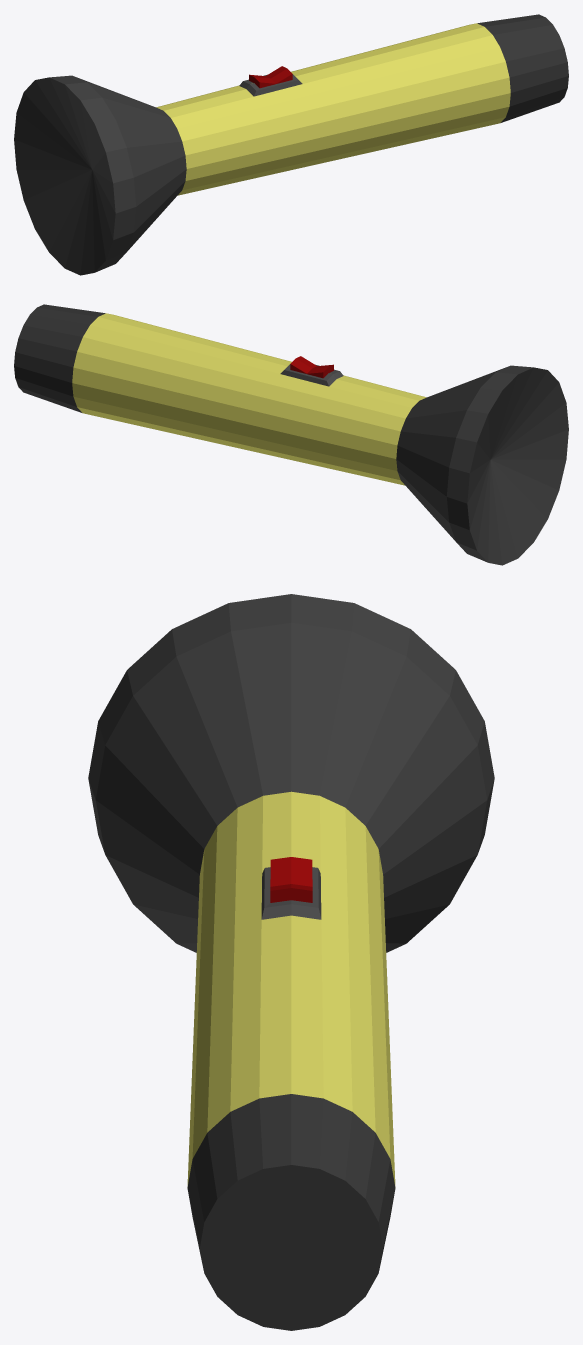
Rendered from lampeTorche1.fbx.
The picture shows the model from 3 angles, top to bottom: view 1: azimuth 30°, elevation 25°; view 2: azimuth 150°, elevation 25°; view 3: azimuth 270°, elevation 25°; orthographic projection. The views are drawn at different scales.
Parts seen in each view (by area): view 1: flashLight; view 2: flashLight; view 3: flashLight.
Boxes of the visible parts, left/top/right/bottom form: flashLight: left=14, top=14, right=568, bottom=275; flashLight: left=14, top=304, right=568, bottom=565; flashLight: left=88, top=594, right=494, bottom=1330.
Bounding box in the file's own units: 71.36 × 26.1 × 26.1.
